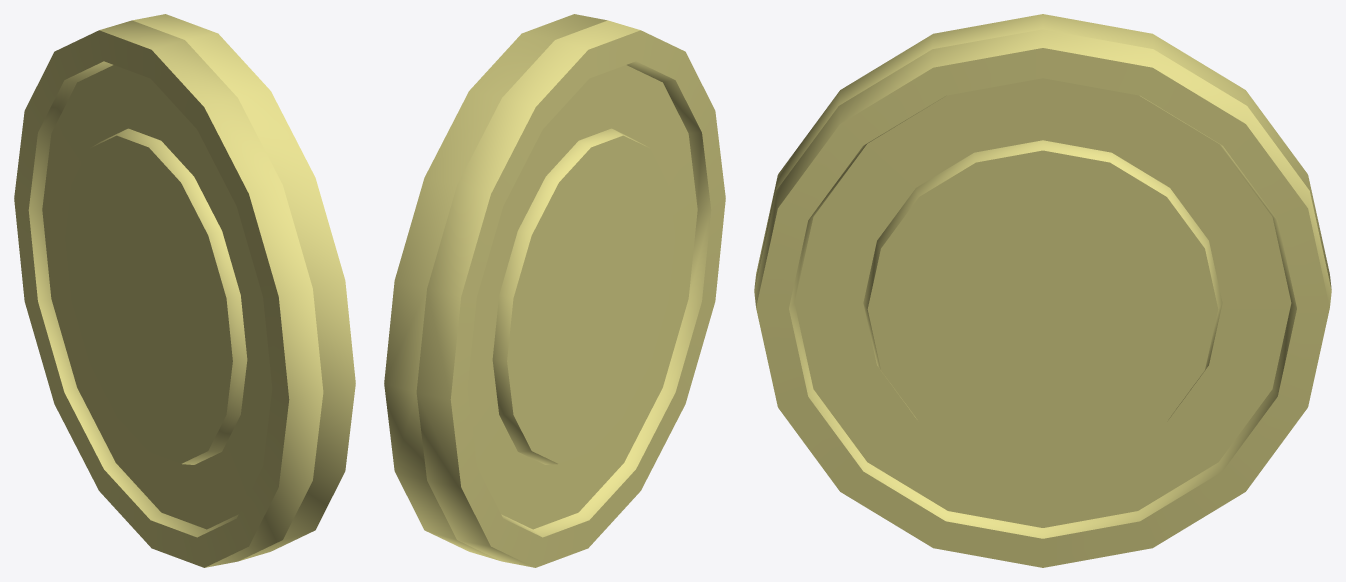
File: Coin Test.fbx
3 views of the same model, side by side, from view 1: azimuth 30°, elevation 25°; view 2: azimuth 150°, elevation 25°; view 3: azimuth 270°, elevation 25° (orthographic). The views are drawn at different scales.
Visible parts, largest first — view 1: Cylinder; view 2: Cylinder; view 3: Cylinder.
Boxes of the visible parts, x1,y1,x2,y2 form: Cylinder: (14, 14, 355, 567); Cylinder: (384, 14, 725, 567); Cylinder: (754, 14, 1331, 567).
Bounding box in the file's own units: 29.9 × 198 × 198.
